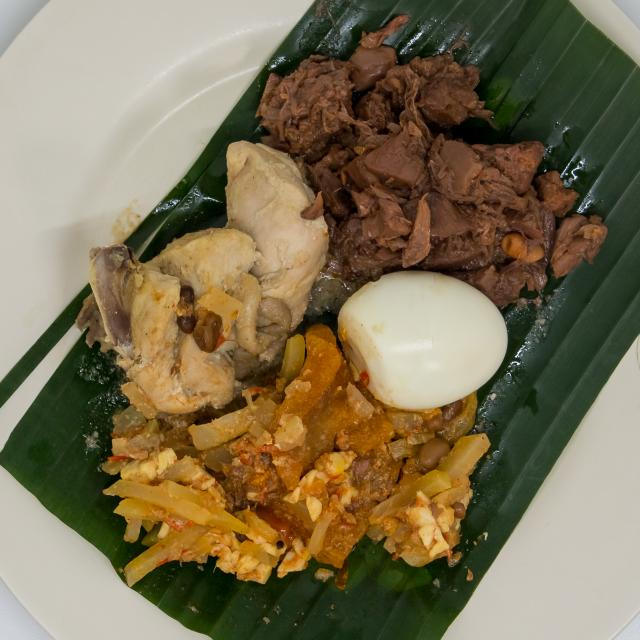Gudeg-Jogja: (22, 4, 620, 592)
